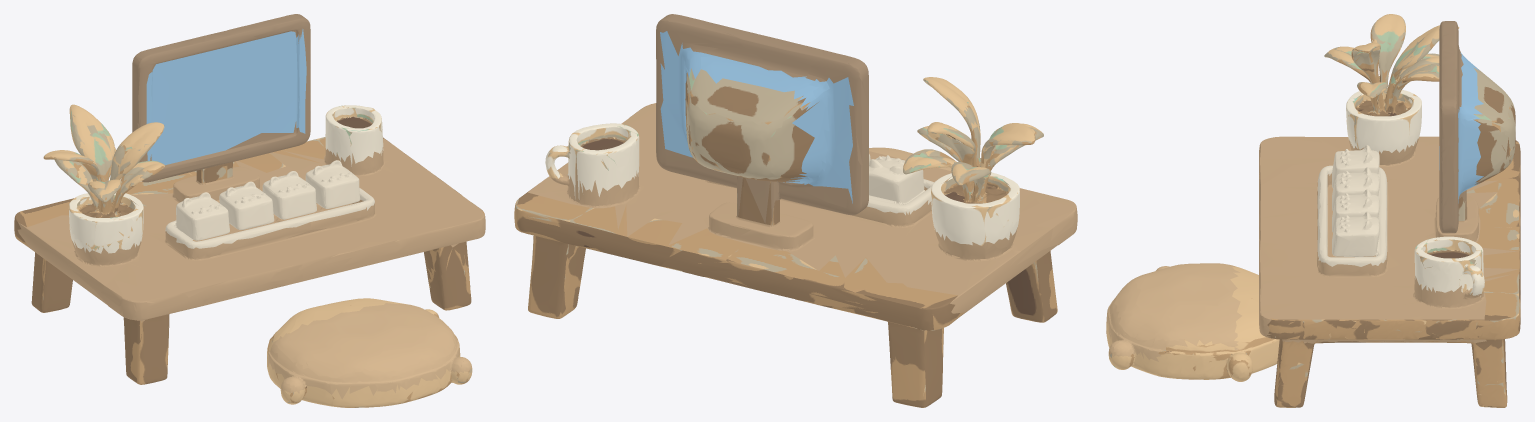
File: low-monitor-cat-keycap-workstation-noise-clean-v2.glb
The picture shows the model from 3 angles, left to right: view 1: azimuth 30°, elevation 25°; view 2: azimuth 150°, elevation 25°; view 3: azimuth 270°, elevation 25°; orthographic projection. The views are drawn at different scales.
Visible parts, largest first — view 1: low-monitor-cat-keycap-workstation-noise-clean-v2; view 2: low-monitor-cat-keycap-workstation-noise-clean-v2; view 3: low-monitor-cat-keycap-workstation-noise-clean-v2.
Part boxes in pixels (left/top/right/bottom): low-monitor-cat-keycap-workstation-noise-clean-v2: left=14, top=14, right=485, bottom=407; low-monitor-cat-keycap-workstation-noise-clean-v2: left=514, top=14, right=1077, bottom=407; low-monitor-cat-keycap-workstation-noise-clean-v2: left=1106, top=14, right=1520, bottom=407.
Size of the model in its own units: 1.9 by 1.21 by 1.7.
6 materials, 1 textured.
